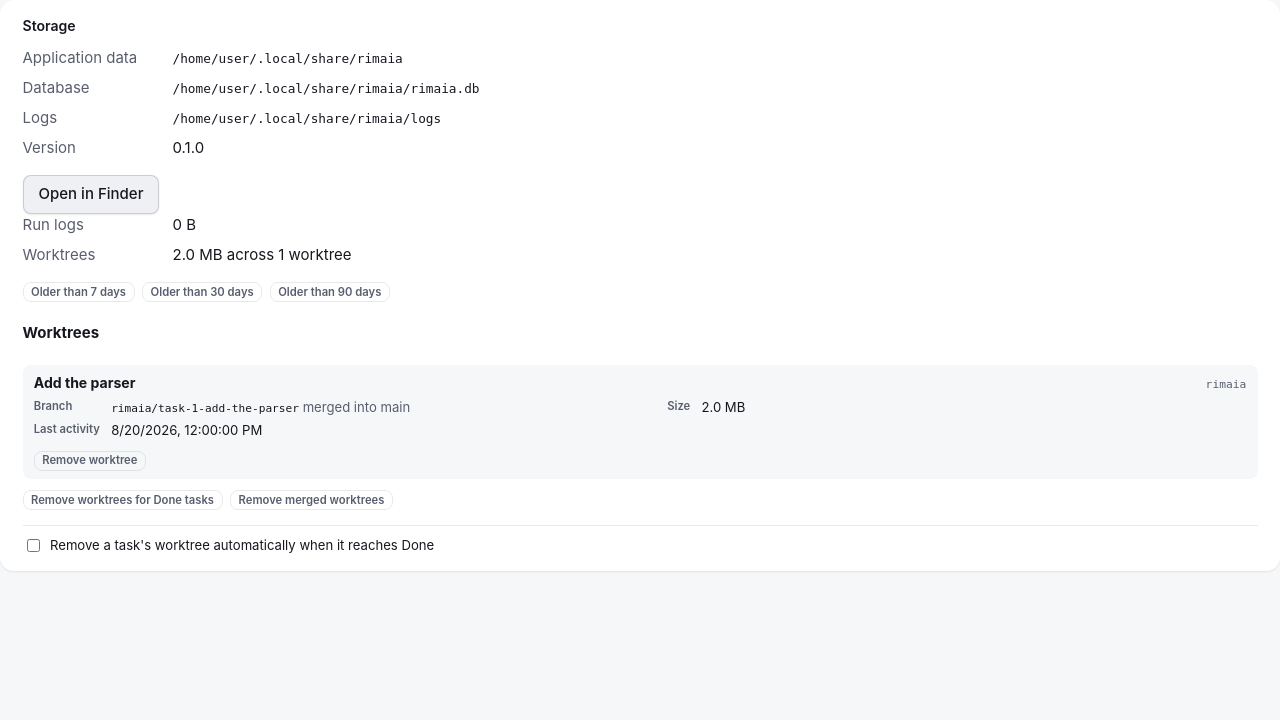
StorageSection › removes one worktree only after the inline confirmation, keeping its branch by default
Click the button "Remove worktree". click: (90, 461)
box: [34,451,146,471]
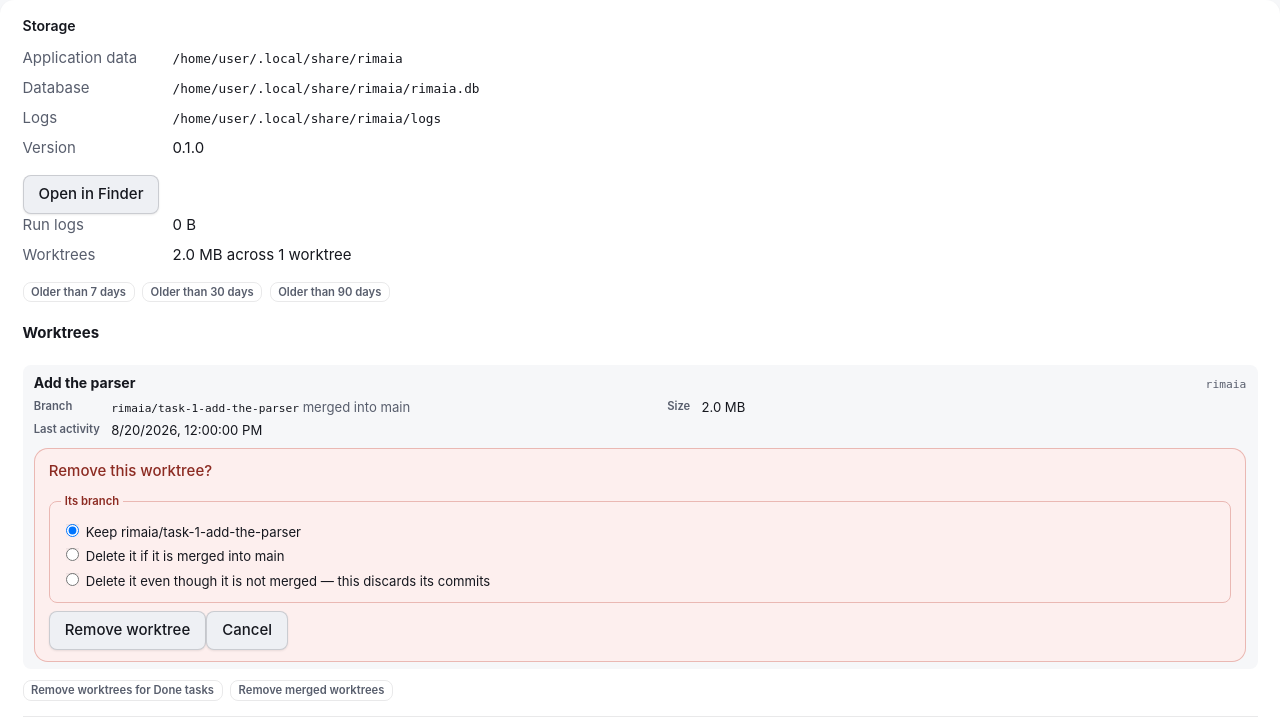
Submit the form from the button "Remove worktree", box [49,611,206,650]
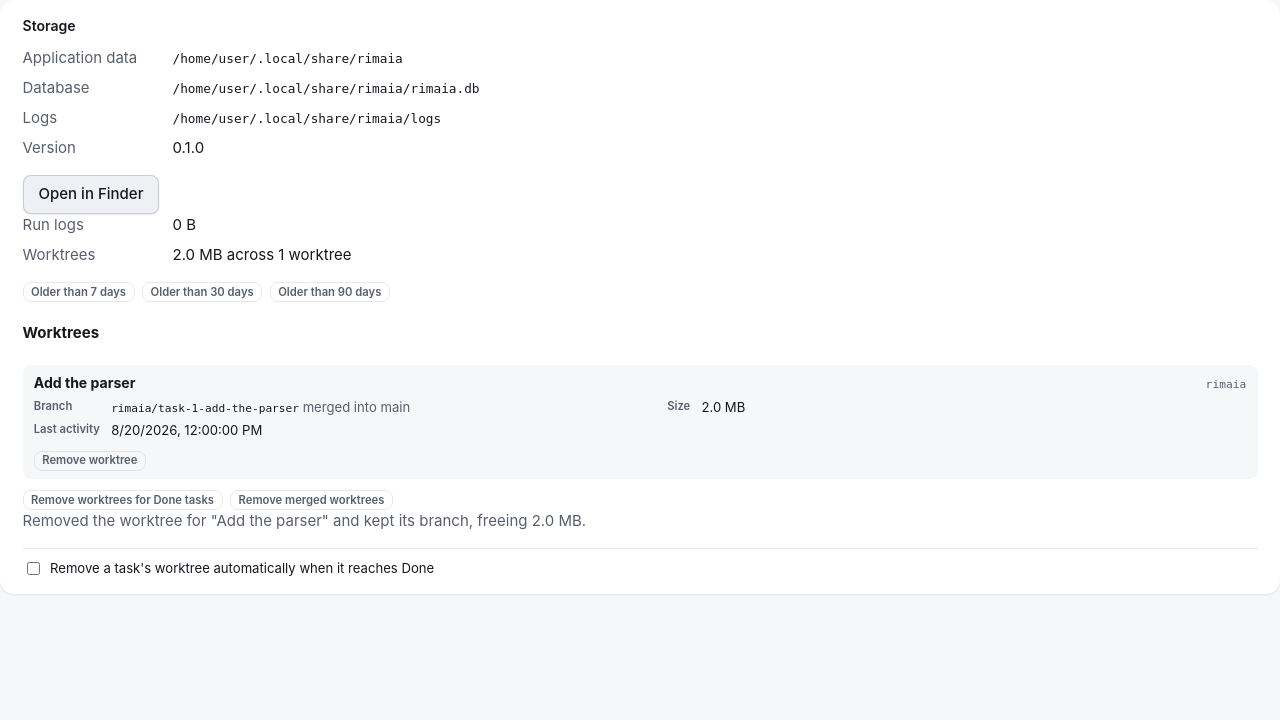
Expected: the text "Removed the worktree for \"Add the parser\" and kept its branch, freeing 2.0 MB." is shown, [22,511,586,530]
